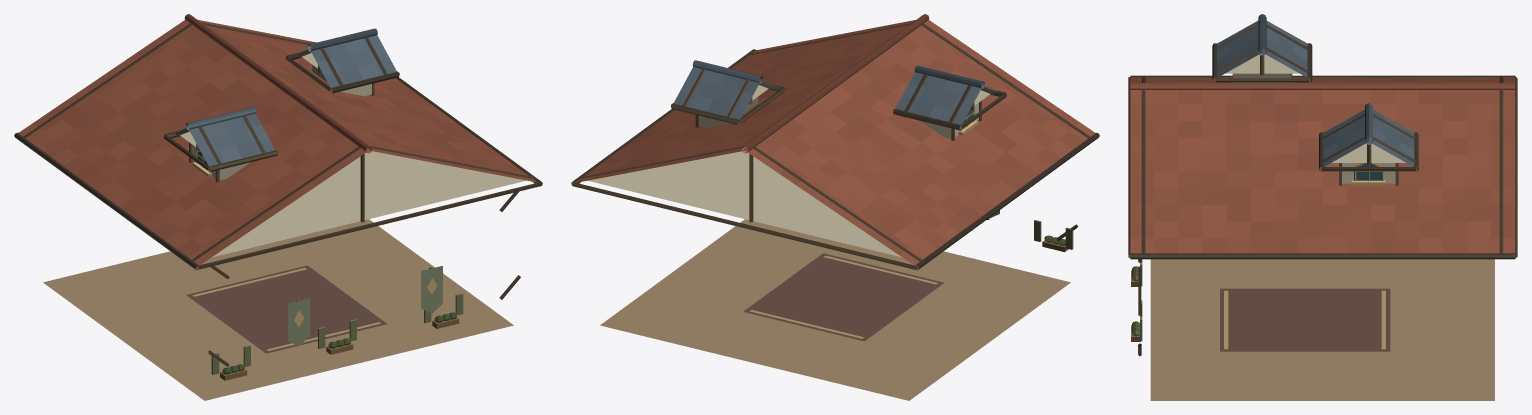
3 views of the same model, side by side, from view 1: azimuth 30°, elevation 25°; view 2: azimuth 150°, elevation 25°; view 3: azimuth 270°, elevation 25° (orthographic). The views are drawn at different scales.
Parts seen in each view (by area): view 1: 10b6734b5bfa08779074a24c71c70cbdb36c561b57b1375bac035080a8b9; view 2: 10b6734b5bfa08779074a24c71c70cbdb36c561b57b1375bac035080a8b9; view 3: 10b6734b5bfa08779074a24c71c70cbdb36c561b57b1375bac035080a8b9.
Boxes of the visible parts, x1,y1,x2,y2 form: 10b6734b5bfa08779074a24c71c70cbdb36c561b57b1375bac035080a8b9: [14, 14, 542, 400]; 10b6734b5bfa08779074a24c71c70cbdb36c561b57b1375bac035080a8b9: [571, 14, 1099, 400]; 10b6734b5bfa08779074a24c71c70cbdb36c561b57b1375bac035080a8b9: [1128, 14, 1517, 400].
Bounding box in the file's own units: 12.02 × 7.61 × 10.97.
6 materials, 1 textured.
